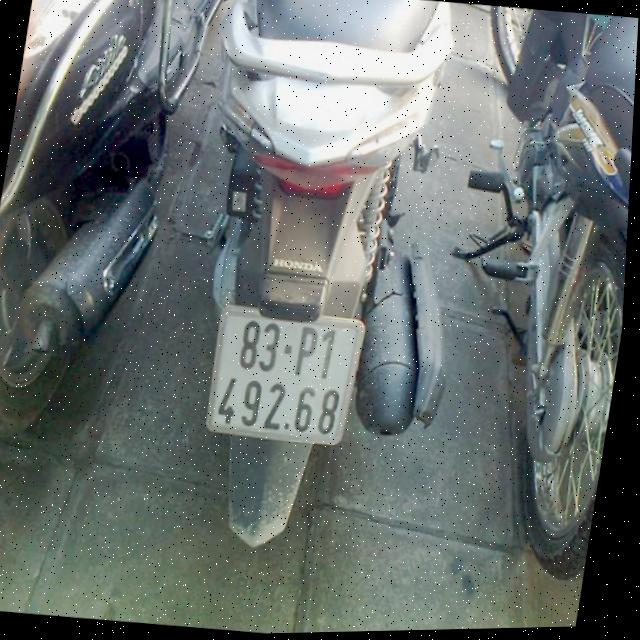motorcycle: (138, 0, 506, 572), (398, 2, 639, 595), (0, 0, 220, 465)
plate: (196, 295, 372, 456)
